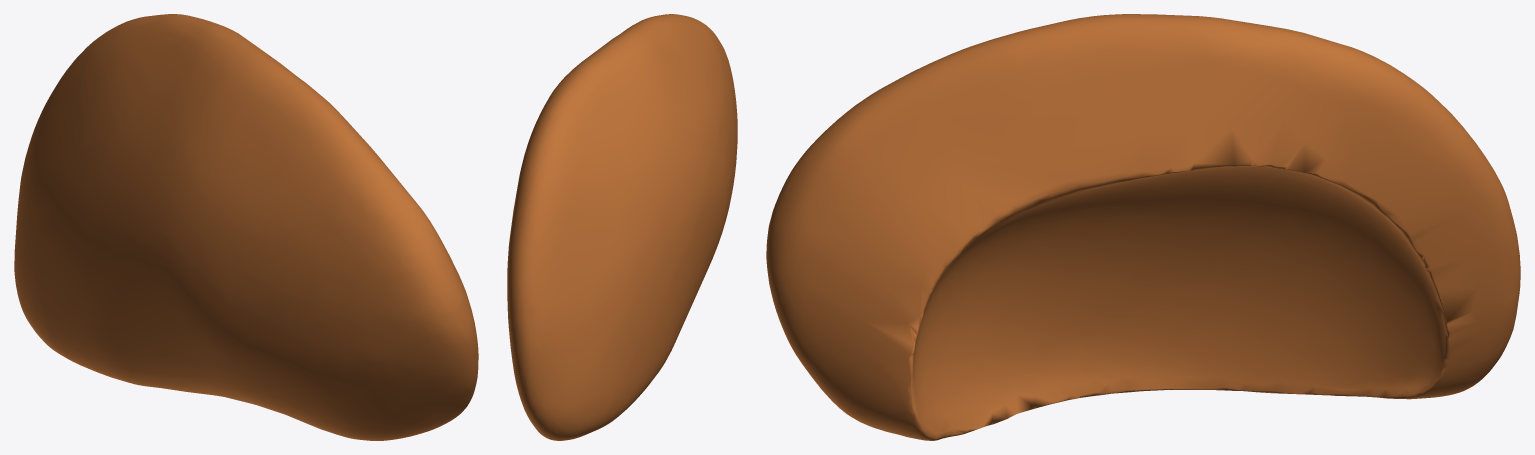
Rendered from Putamen_right.glb.
3 renders of one model, left to right at view 1: azimuth 30°, elevation 25°; view 2: azimuth 150°, elevation 25°; view 3: azimuth 270°, elevation 25°, orthographic. The views are drawn at different scales.
Visible parts, largest first — view 1: Putamen.r_grp1.048; view 2: Putamen.r_grp1.048; view 3: Putamen.r_grp1.048.
Part boxes in pixels (x1=…): Putamen.r_grp1.048: x1=14, y1=14, x2=478, y2=440; Putamen.r_grp1.048: x1=507, y1=14, x2=737, y2=440; Putamen.r_grp1.048: x1=766, y1=14, x2=1520, y2=440.
Size of the model in its own units: 0.0177 by 0.0253 by 0.0416.
